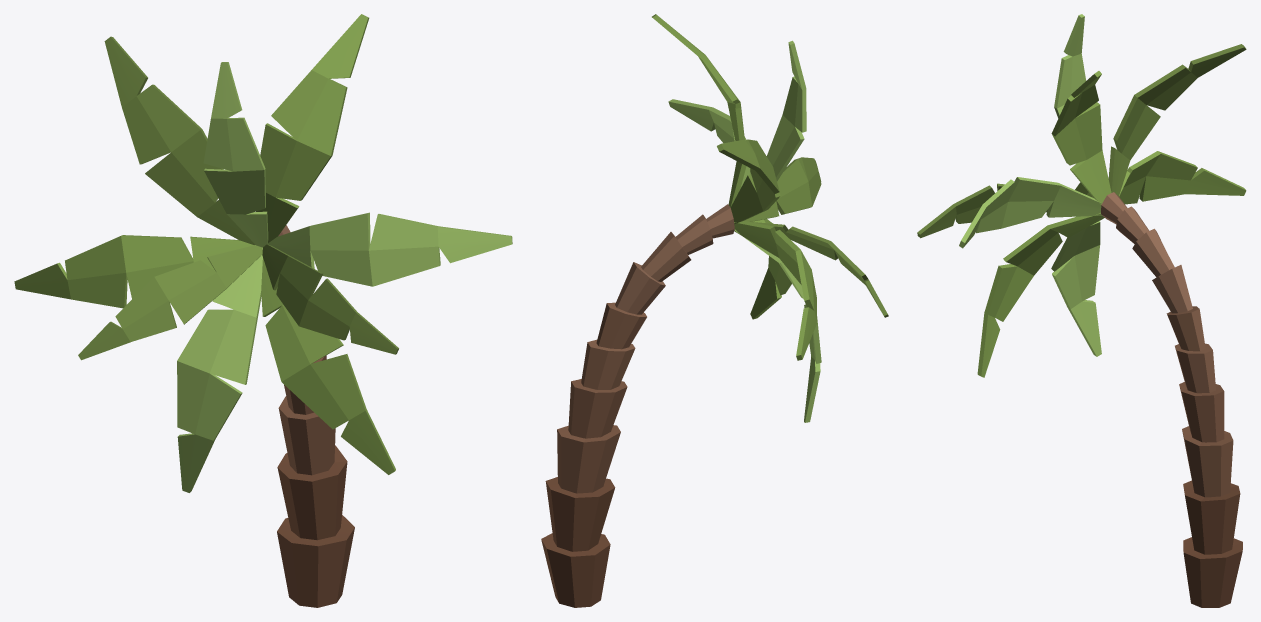
File: palm_2.fbx
3 renders of one model, left to right at view 1: azimuth 30°, elevation 25°; view 2: azimuth 150°, elevation 25°; view 3: azimuth 270°, elevation 25°, orthographic. The views are drawn at different scales.
Visible parts, largest first — view 1: palm_2; view 2: palm_2; view 3: palm_2.
Boxes of the visible parts, box(x1,y1,x2,y2) form: palm_2: box(14, 14, 512, 607); palm_2: box(541, 14, 888, 607); palm_2: box(917, 14, 1246, 607).
Size of the model in its own units: 374 by 660 by 379.
